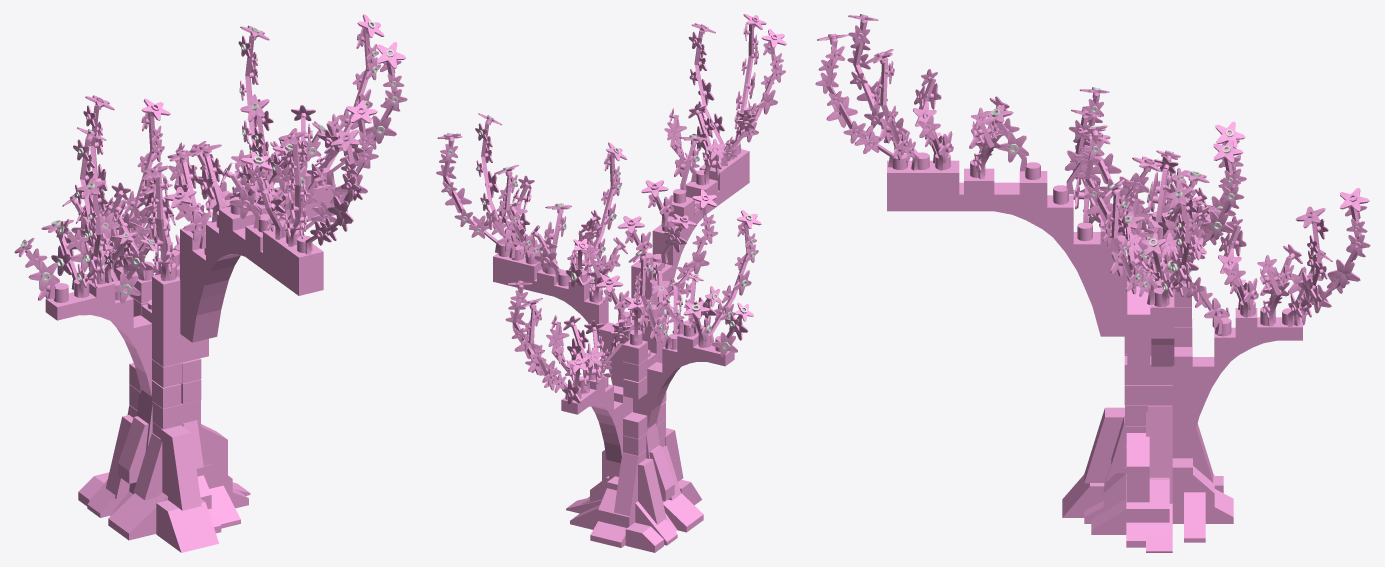
Rendered from dasc.FBX.
The picture shows the model from 3 angles, left to right: view 1: azimuth 30°, elevation 25°; view 2: azimuth 150°, elevation 25°; view 3: azimuth 270°, elevation 25°; orthographic projection. The views are drawn at different scales.
Visible parts, largest first — view 1: Box032, Box023, Box039, Box040, Cylinder143, Box037, Cylinder145, Cylinder146, Cylinder157, Box014, Cylinder147, Cylinder144 (+30 smaller); view 2: Box032, Box025, Box023, Box024, Cylinder157, Box017, Cylinder144, Cylinder133, Cylinder145, Cylinder147, Cylinder086, Cylinder146 (+30 smaller); view 3: Box032, Box024, Cylinder143, Cylinder133, Box028, Cylinder145, Box017, Cylinder158, Cylinder146, Box003, Cylinder132, Box038 (+19 smaller).
Part boxes in pixels (<box>): Box032: <box>180,206,323,342</box>; Box023: <box>45,280,152,396</box>; Box039: <box>160,425,201,510</box>; Box040: <box>156,499,218,552</box>; Cylinder143: <box>297,129,364,254</box>; Box037: <box>152,274,182,346</box>; Cylinder145: <box>286,100,378,245</box>; Cylinder146: <box>247,165,327,239</box>; Cylinder157: <box>141,162,176,281</box>; Box014: <box>108,492,167,540</box>; Cylinder147: <box>220,138,306,232</box>; Cylinder144: <box>278,128,307,246</box>; Box032: <box>631,149,749,325</box>; Box025: <box>493,253,634,387</box>; Box023: <box>633,333,734,428</box>; Box024: <box>561,375,631,463</box>; Cylinder157: <box>648,189,718,319</box>; Box017: <box>590,488,635,547</box>; Cylinder144: <box>731,29,786,159</box>; Cylinder133: <box>518,298,581,400</box>; Cylinder145: <box>688,23,731,161</box>; Cylinder147: <box>664,108,724,185</box>; Cylinder086: <box>530,210,602,286</box>; Cylinder146: <box>688,100,755,167</box>; Box032: <box>887,160,1125,336</box>; Box024: <box>1172,308,1302,440</box>; Cylinder143: <box>815,33,907,169</box>; Cylinder133: <box>1282,188,1370,325</box>; Box028: <box>1126,474,1169,547</box>; Cylinder145: <box>865,49,929,170</box>; Box017: <box>1172,466,1233,523</box>; Cylinder158: <box>1288,206,1328,327</box>; Cylinder146: <box>913,68,953,170</box>; Box003: <box>1146,405,1172,503</box>; Cylinder132: <box>1218,215,1258,317</box>; Box038: <box>1127,281,1150,369</box>.
Size of the model in its own units: 139 by 174 by 178.
